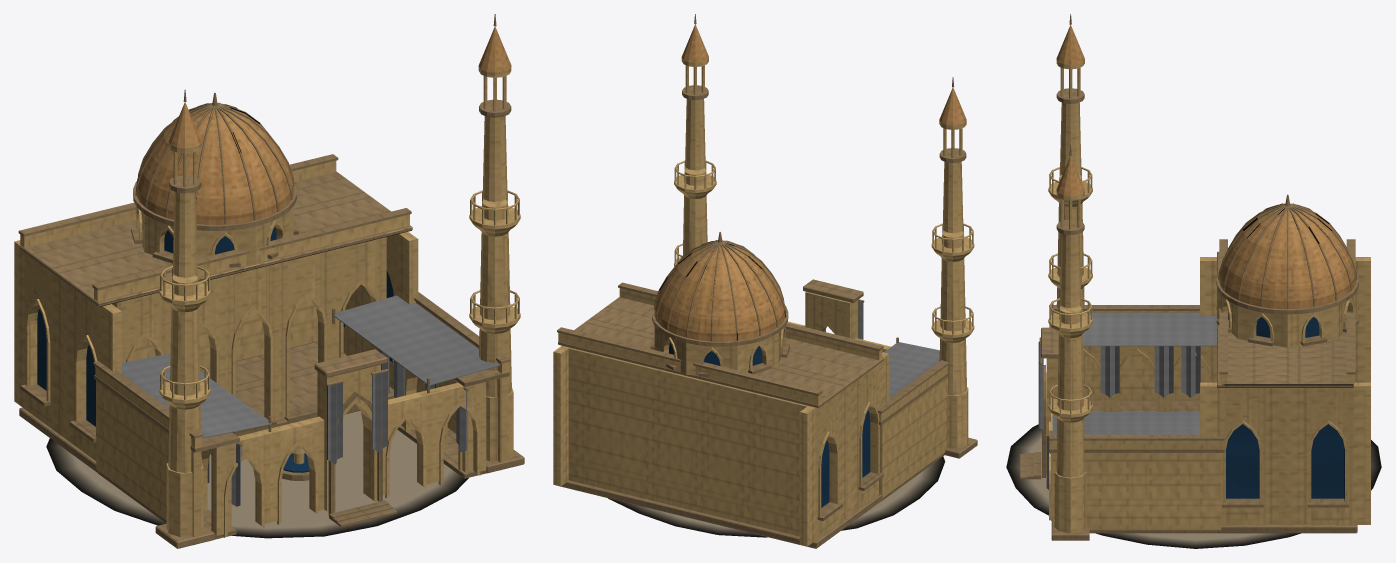
The model's file is cathedral-levant.glb.
3 renders of one model, left to right at view 1: azimuth 30°, elevation 25°; view 2: azimuth 150°, elevation 25°; view 3: azimuth 270°, elevation 25°, orthographic. The views are drawn at different scales.
Parts seen in each view (by area): view 1: LOD0; view 2: LOD0; view 3: LOD0.
Part boxes in pixels (left/top/right/bottom): LOD0: left=14, top=14, right=524, bottom=548; LOD0: left=553, top=14, right=977, bottom=548; LOD0: left=1006, top=14, right=1381, bottom=548.
Size of what is drawn, in the model's own units: 1.69 by 1.9 by 1.67.
Materials: 3 (3 with a texture image).
